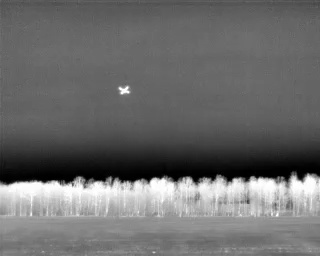DRONE: (115, 81, 135, 100)
